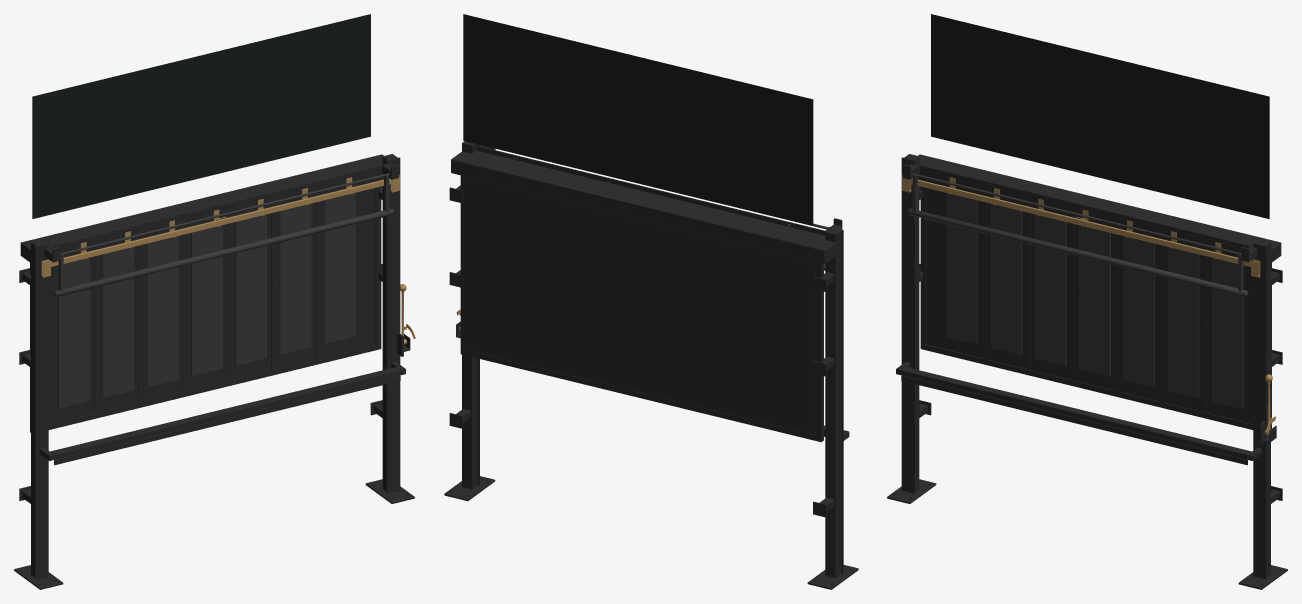
File: choir_rack.glb
3 views of the same model, side by side, from view 1: azimuth 30°, elevation 25°; view 2: azimuth 150°, elevation 25°; view 3: azimuth 330°, elevation 25° (orthographic). The views are drawn at different scales.
Visible parts, largest first — view 1: choir_rack, stair_quad, IA_slot_1, IA_slot_5, IA_slot_4, IA_slot_3, IA_slot_2, IA_slot_6, IA_slot_0, striker, rack_lock; view 2: choir_rack, stair_quad; view 3: choir_rack, stair_quad, IA_slot_1, IA_slot_5, IA_slot_2, IA_slot_3, IA_slot_4, IA_slot_0, IA_slot_6, striker, rack_lock.
Boxes of the visible parts, x1,y1,x2,y2 form: choir_rack: [14, 154, 415, 589]; stair_quad: [32, 14, 370, 218]; IA_slot_1: [102, 247, 134, 397]; IA_slot_5: [279, 203, 311, 354]; IA_slot_4: [235, 214, 266, 365]; IA_slot_3: [191, 225, 222, 376]; IA_slot_2: [147, 236, 178, 387]; IA_slot_6: [324, 193, 355, 343]; IA_slot_0: [58, 257, 89, 408]; striker: [50, 173, 394, 296]; rack_lock: [51, 178, 391, 266]; choir_rack: [444, 141, 858, 589]; stair_quad: [463, 14, 813, 225]; choir_rack: [887, 154, 1287, 589]; stair_quad: [931, 14, 1269, 218]; IA_slot_1: [990, 203, 1022, 354]; IA_slot_5: [1167, 247, 1199, 397]; IA_slot_2: [1035, 214, 1066, 365]; IA_slot_3: [1079, 225, 1110, 376]; IA_slot_4: [1123, 236, 1154, 387]; IA_slot_0: [946, 193, 977, 343]; IA_slot_6: [1212, 257, 1243, 408]; striker: [907, 173, 1251, 296]; rack_lock: [910, 178, 1250, 266].
Bounding box in the file's own units: 2.9 × 3.45 × 0.35.
